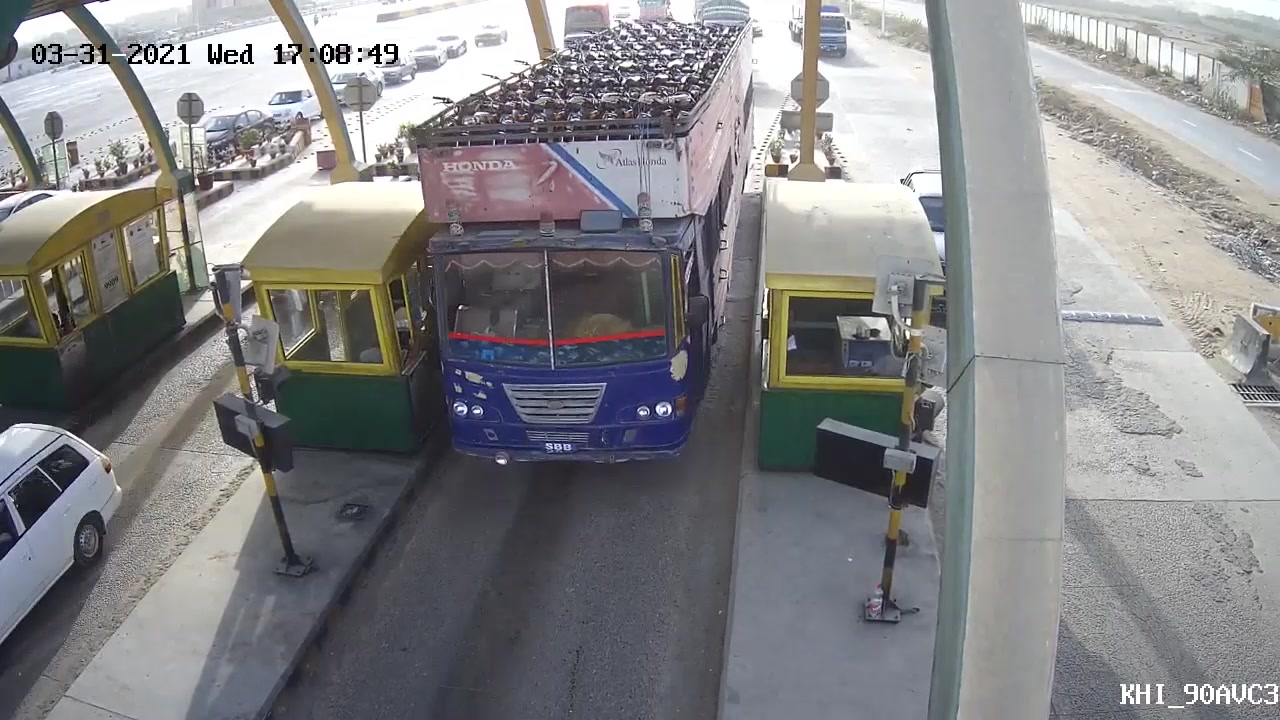F5: (400, 10, 769, 484)
